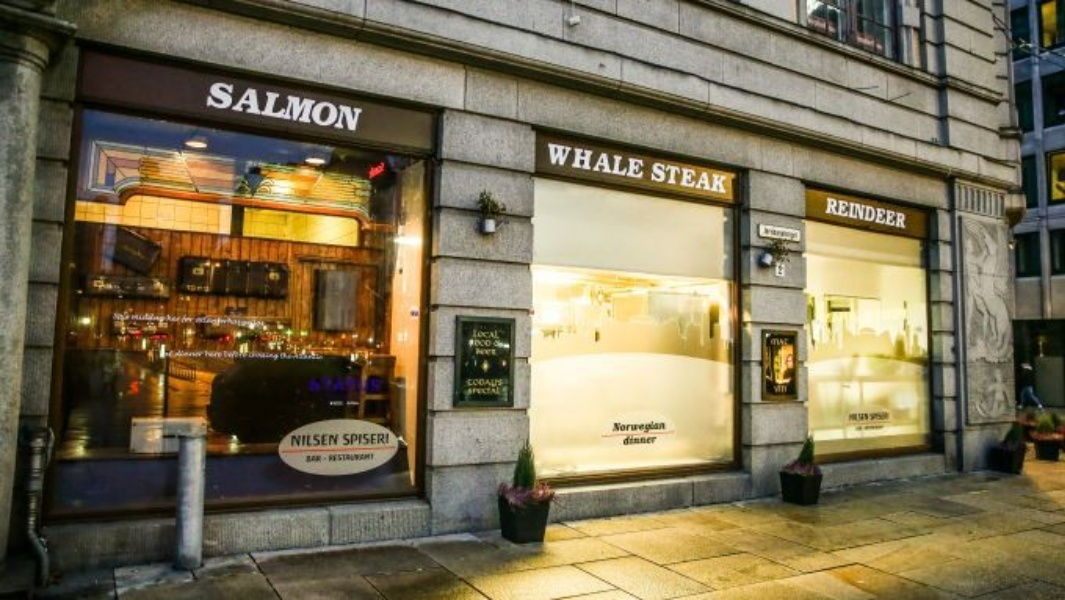text: (225, 79, 240, 132), (241, 79, 256, 132), (257, 79, 272, 132), (273, 79, 288, 132), (289, 79, 304, 132), (305, 79, 320, 132), (321, 79, 336, 132), (337, 79, 352, 132), (212, 79, 224, 132), (353, 79, 365, 132), (561, 141, 576, 179), (577, 141, 592, 179), (593, 141, 608, 179), (609, 141, 624, 179), (625, 141, 640, 179), (657, 160, 672, 193), (673, 160, 688, 193), (689, 160, 704, 193), (705, 160, 720, 193), (833, 196, 848, 229), (849, 196, 864, 229), (865, 196, 880, 229), (881, 196, 896, 229), (547, 141, 560, 179), (897, 196, 906, 229), (824, 196, 832, 229), (481, 378, 496, 395), (481, 339, 496, 356), (321, 376, 336, 392), (337, 376, 352, 392), (353, 376, 368, 392), (466, 378, 480, 395), (113, 314, 128, 329), (129, 314, 144, 329), (145, 314, 160, 329), (161, 314, 176, 329), (177, 314, 192, 329), (193, 314, 208, 329), (209, 314, 224, 329), (225, 314, 240, 329), (241, 314, 256, 329), (721, 160, 727, 193), (305, 434, 320, 447), (321, 434, 336, 447), (625, 420, 640, 433), (641, 420, 656, 433), (369, 376, 381, 392), (469, 339, 480, 356), (353, 433, 368, 445), (369, 433, 384, 445), (641, 434, 657, 445), (309, 376, 320, 392), (177, 350, 192, 361), (193, 350, 208, 361), (209, 350, 224, 361), (225, 350, 240, 361), (241, 350, 256, 361), (257, 350, 272, 361), (273, 350, 288, 361), (289, 350, 304, 361), (305, 350, 320, 361), (769, 228, 784, 239), (481, 328, 496, 339), (625, 434, 640, 445), (292, 434, 304, 447), (163, 350, 176, 361), (785, 228, 798, 239), (613, 420, 624, 433), (497, 378, 505, 395), (497, 339, 505, 356), (337, 452, 352, 461), (353, 452, 368, 461), (849, 413, 864, 422), (865, 413, 880, 422), (652, 160, 656, 193), (257, 314, 265, 329), (769, 337, 784, 345), (306, 455, 320, 463), (773, 384, 784, 394), (343, 433, 352, 445), (657, 420, 665, 433), (326, 452, 336, 461), (865, 425, 880, 431), (472, 328, 480, 339), (641, 141, 643, 179), (881, 413, 889, 422), (777, 265, 784, 275), (385, 433, 390, 445), (763, 228, 768, 239), (856, 425, 864, 431), (369, 452, 373, 461), (337, 434, 339, 447), (785, 337, 788, 345), (321, 350, 323, 361), (497, 328, 499, 339), (622, 434, 624, 445), (785, 384, 787, 394), (321, 455, 322, 463), (881, 425, 882, 431)
